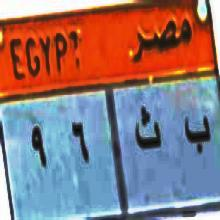6: (70, 120, 94, 166)
9: (28, 119, 50, 172)
baa: (180, 106, 212, 163)
thaa: (132, 99, 164, 157)
